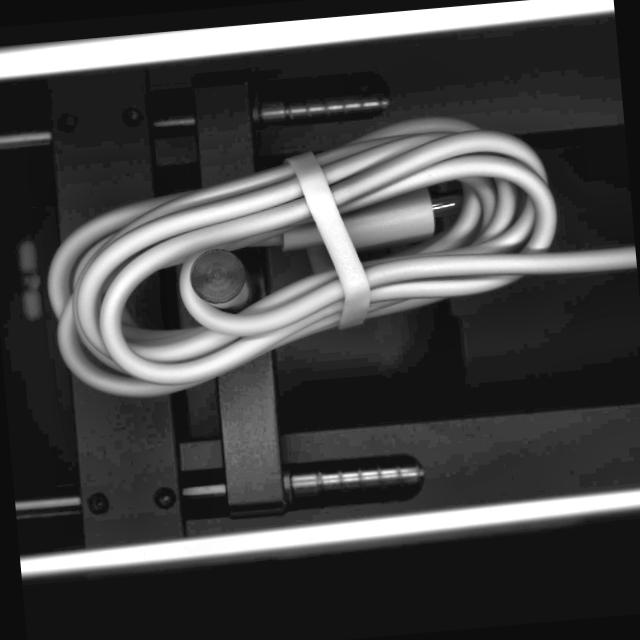Cable: (28, 93, 640, 409)
